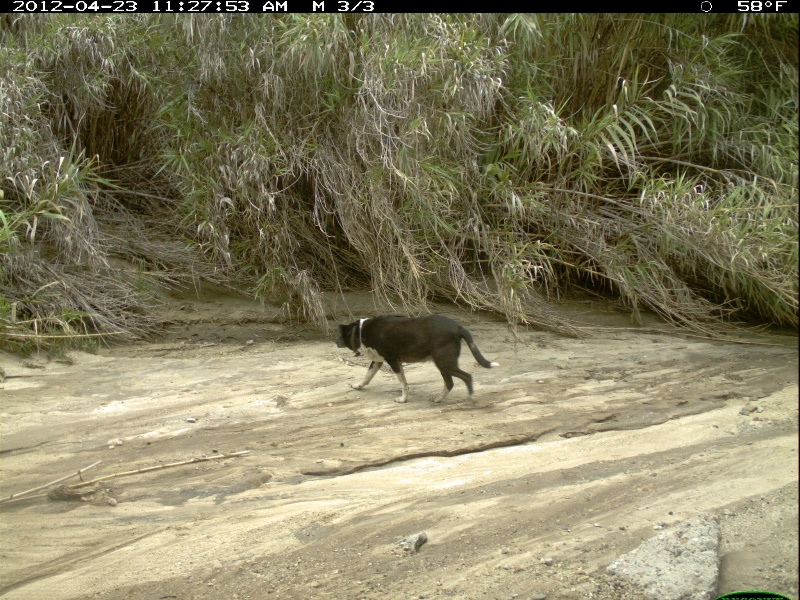dog: (329, 309, 503, 409)
